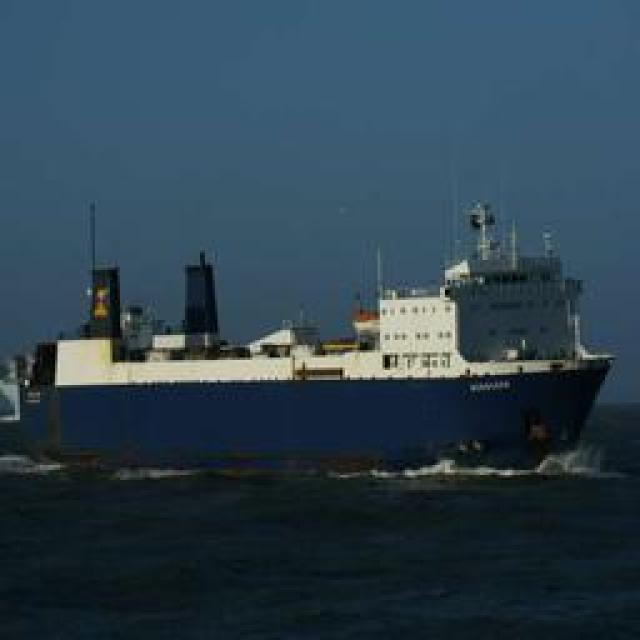CIV_Ship: (35, 205, 618, 478)
